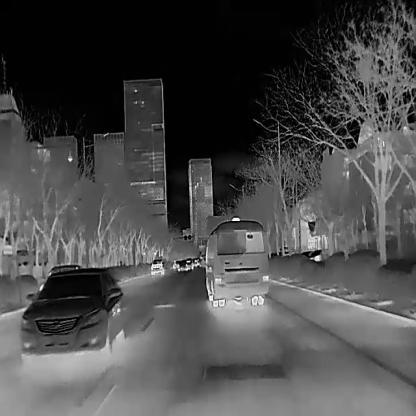car: (16, 265, 124, 371), (201, 216, 268, 307), (148, 258, 164, 274), (176, 259, 188, 271), (186, 257, 193, 269)
